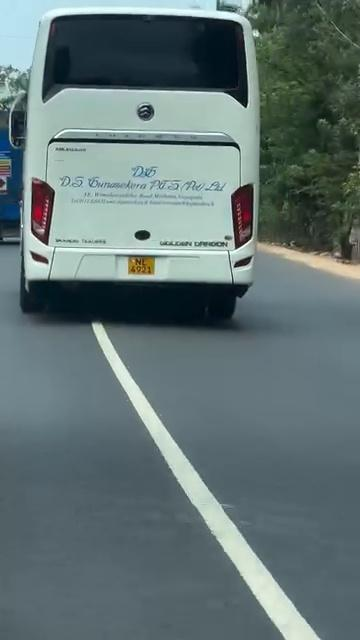illegal overtaking: (21, 10, 267, 320)
number plate: (124, 253, 164, 280)
